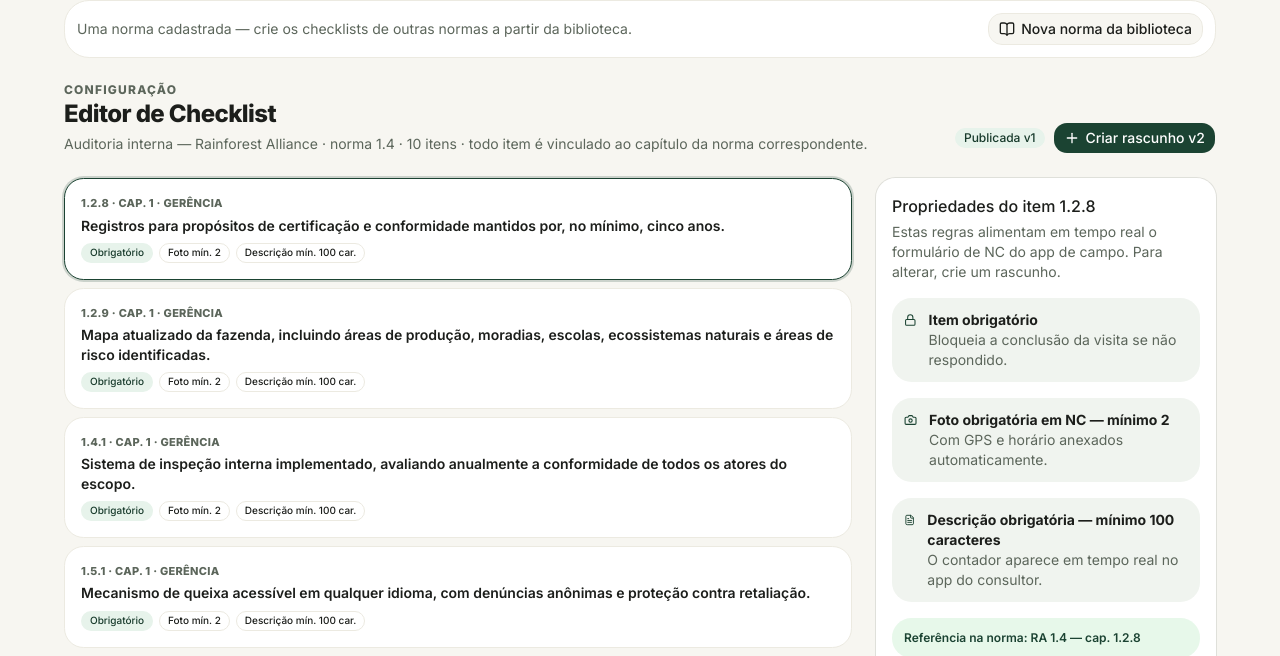
Página de checklists — multi-normas › abre o dialog da biblioteca com as opções 4C e Orgânico e o preview dos itens
Click the button "Nova norma da biblioteca".
click(1096, 29)  # box x1=988 y1=13 x2=1203 y2=45
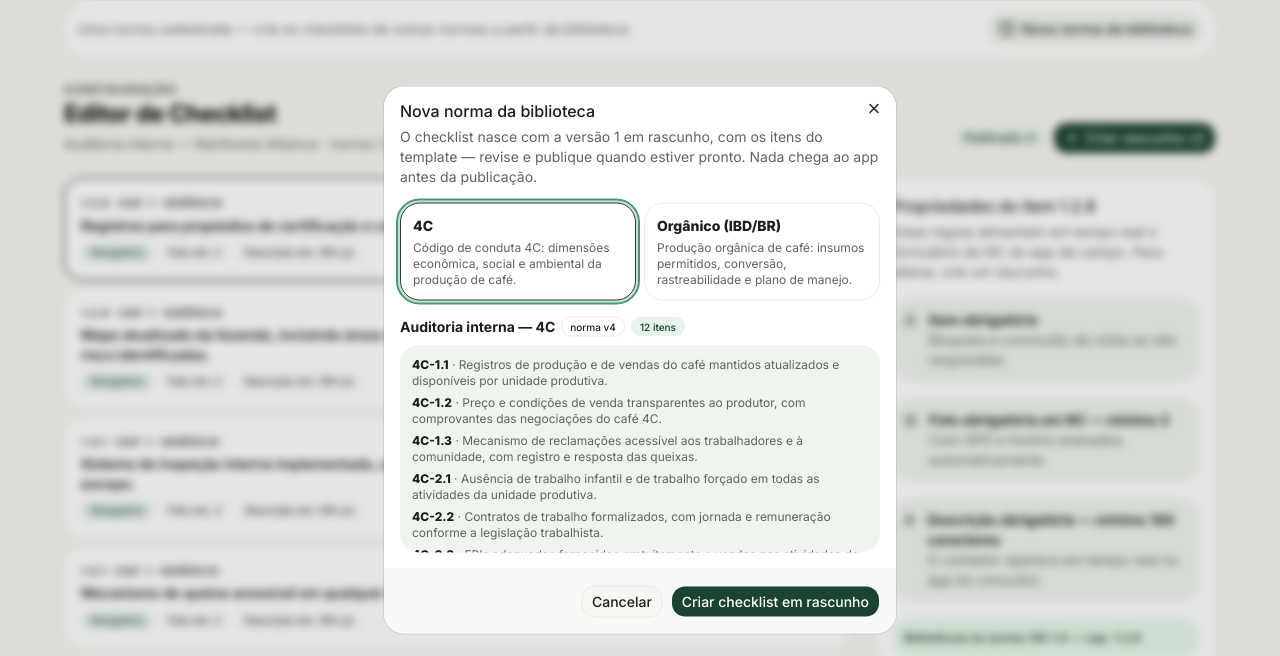
Expected: the text "versão 1 em rascunho" is shown, x1=400 y1=128 x2=878 y2=184
Expected: the button "4C" is shown, x1=400 y1=202 x2=636 y2=300
Expected: the button "Orgânico (IBD/BR)" is shown, x1=644 y1=202 x2=880 y2=300
